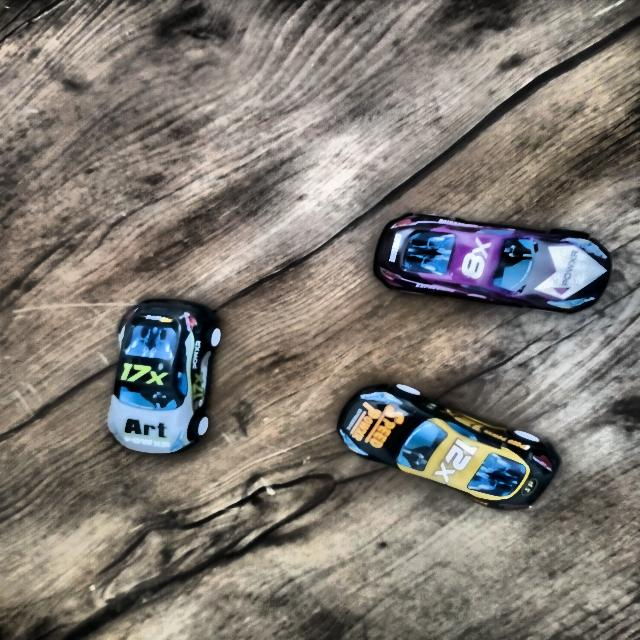Car: (335, 380, 565, 517), (373, 210, 613, 318), (88, 292, 226, 456)
